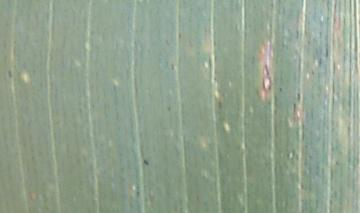tarspot: (141, 158, 153, 168)
